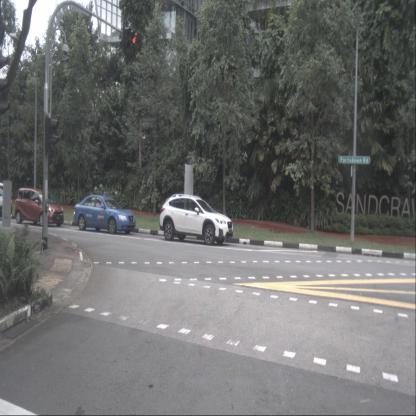vehicle-car: (160, 193, 233, 246), (73, 192, 136, 235), (14, 188, 64, 227), (0, 182, 13, 218)
